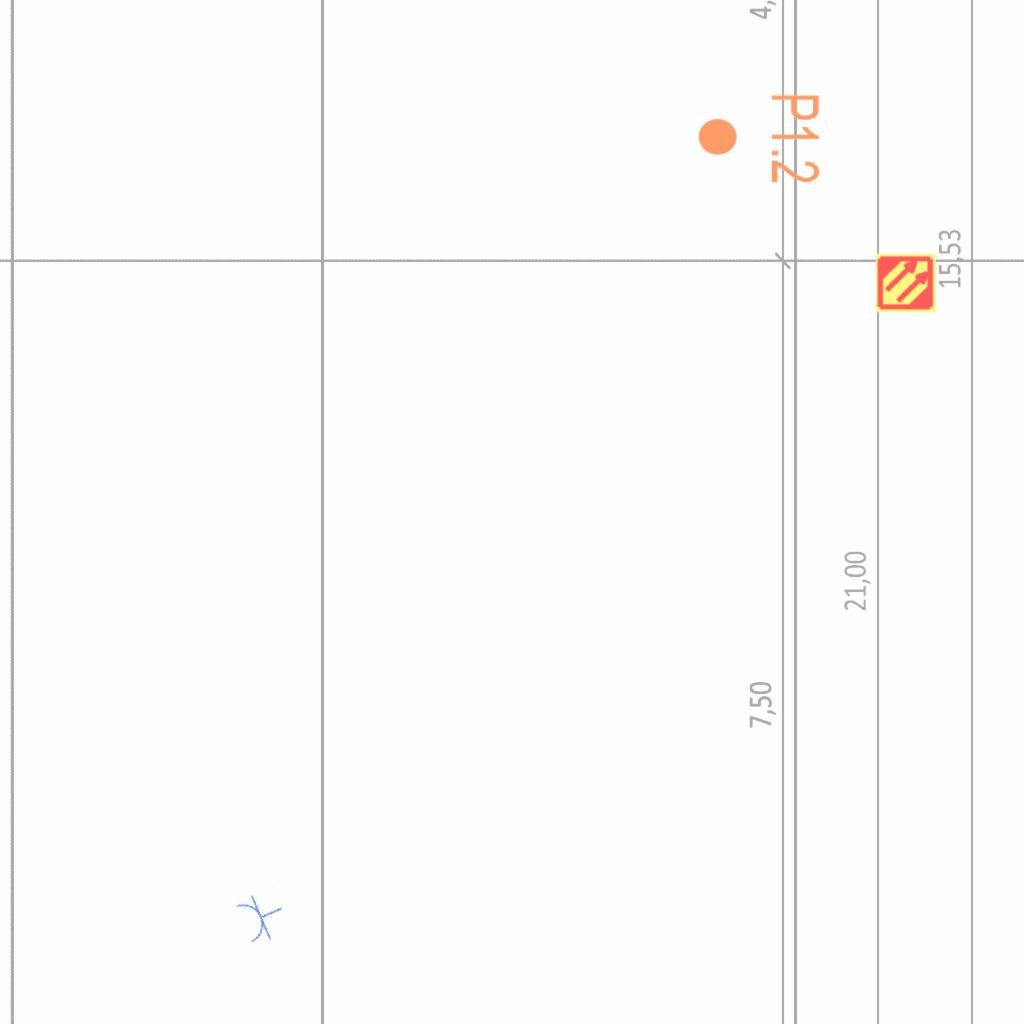ASR_Ansaugrauchmelder: (875, 252, 937, 314)
Downlight_LED_Einbauleuchten_Flur: (695, 92, 823, 185)
Schukosteckdose_einfach: (232, 885, 292, 948)
